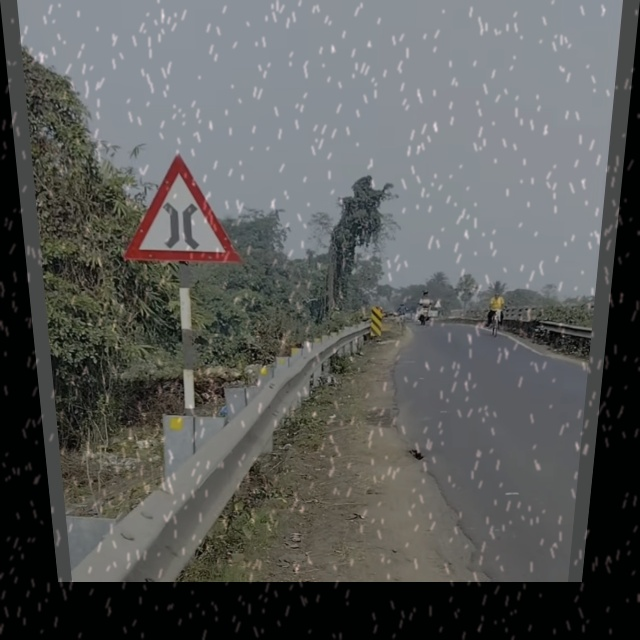Narrow_Bridge: (111, 152, 248, 268)
